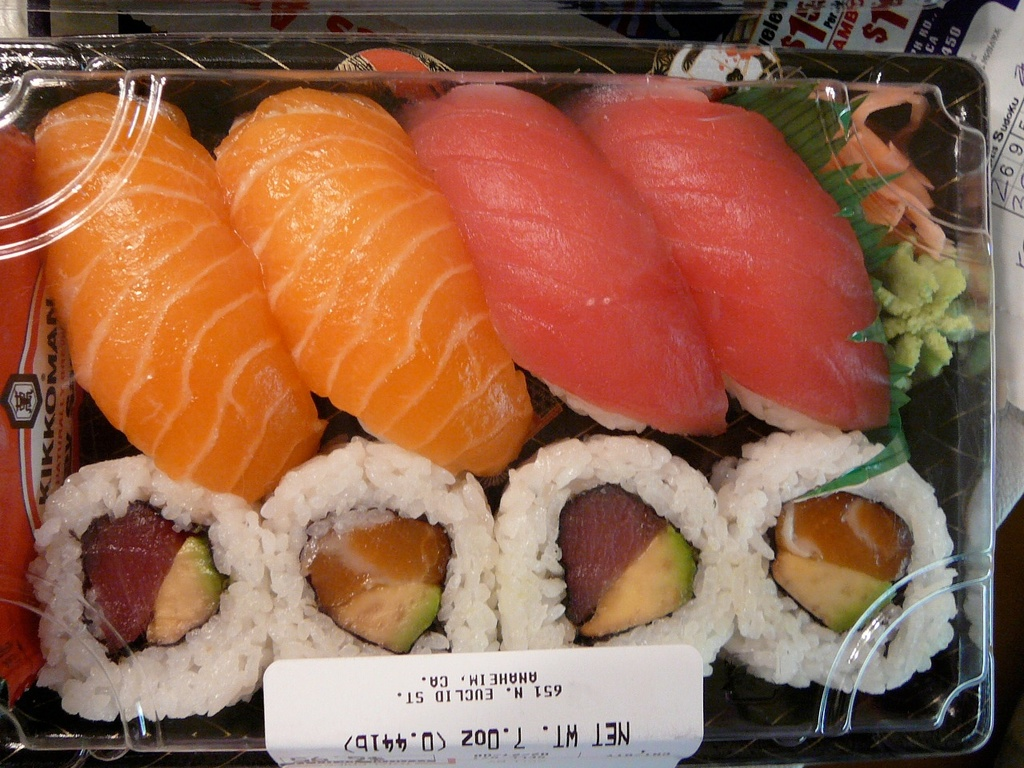sushi: (35, 78, 965, 718), (31, 452, 238, 738)
